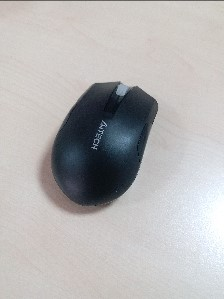mouse: (51, 82, 159, 206)
